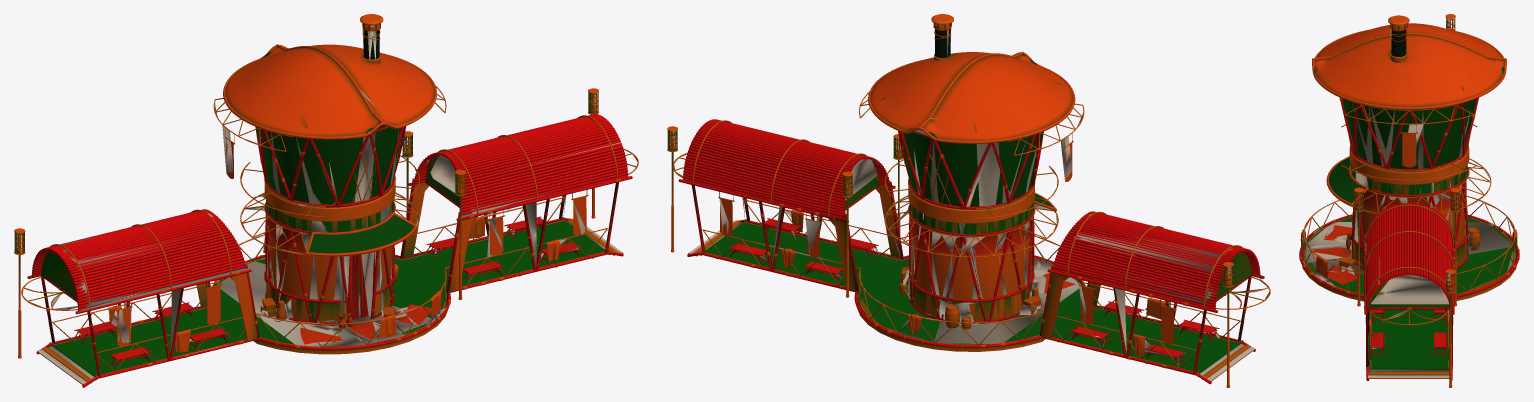
File: KB3D_GAE_BldgMD_C.glb
3 views of the same model, side by side, from view 1: azimuth 30°, elevation 25°; view 2: azimuth 150°, elevation 25°; view 3: azimuth 270°, elevation 25° (orthographic). The views are drawn at different scales.
Parts seen in each view (by area): view 1: L0, L1, L2; view 2: L0, L1, L2; view 3: L0, L1, L2.
Boxes of the visible parts, x1,y1,x2,y2 form: L0: (14, 14, 638, 387); L1: (15, 24, 637, 386); L2: (19, 25, 637, 383); L0: (667, 14, 1270, 387); L1: (667, 24, 1269, 383); L2: (672, 24, 1268, 380); L0: (1299, 14, 1519, 387); L1: (1301, 15, 1517, 380); L2: (1303, 18, 1514, 377).
Bounding box in the file's own units: 33.11 × 14.78 × 11.44.
